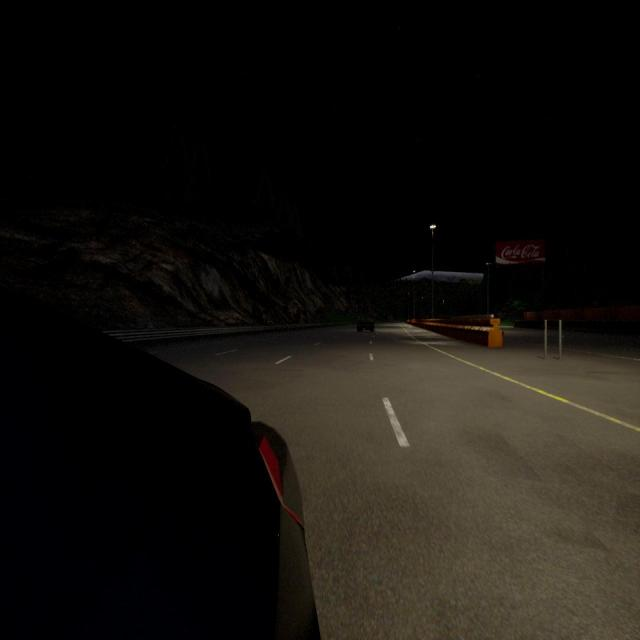Vehicle: (0, 288, 319, 640), (357, 315, 375, 333)
